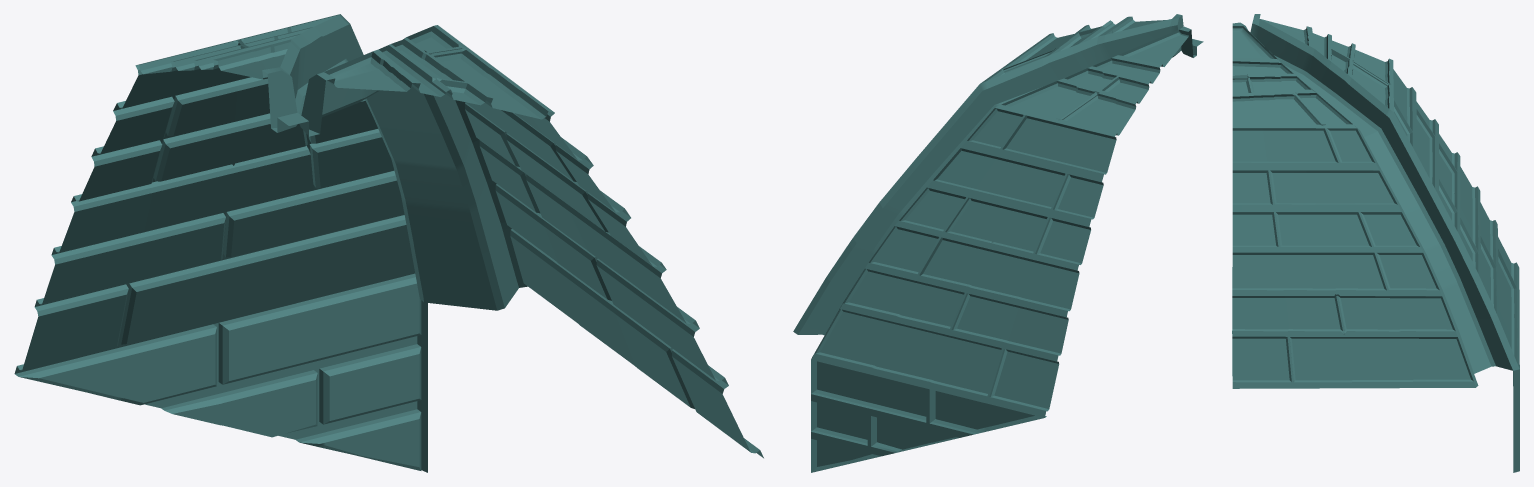
File: Brick_Corner_R.fbx
3 renders of one model, left to right at view 1: azimuth 30°, elevation 25°; view 2: azimuth 150°, elevation 25°; view 3: azimuth 270°, elevation 25°, orthographic. The views are drawn at different scales.
Parts seen in each view (by area): view 1: Brick_Corner_R; view 2: Brick_Corner_R; view 3: Brick_Corner_R.
Part boxes in pixels (<box>): Brick_Corner_R: <box>14,14,763,472</box>; Brick_Corner_R: <box>793,14,1203,472</box>; Brick_Corner_R: <box>1232,14,1519,472</box>.
Size of the model in its own units: 200 by 272 by 200.
